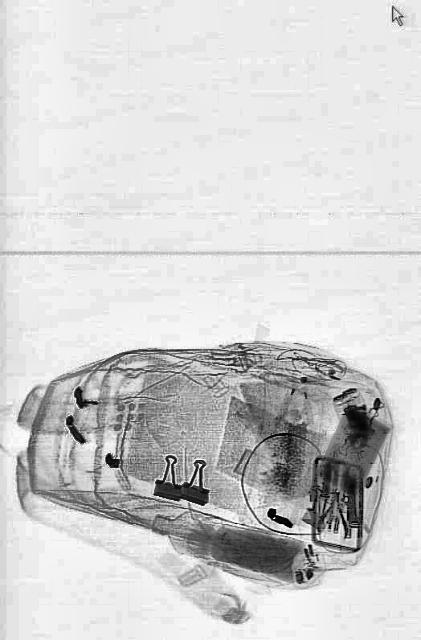Pliers: (314, 486, 352, 540)
